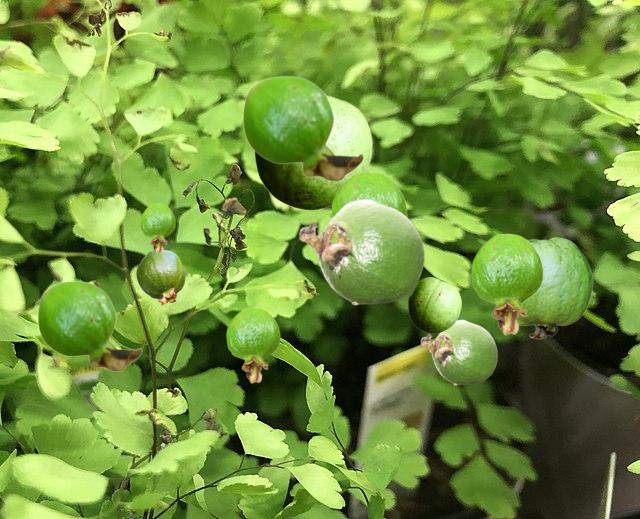guava: (298, 198, 424, 304), (254, 95, 371, 209), (242, 75, 363, 181), (37, 280, 141, 371), (518, 237, 592, 338), (471, 233, 542, 334), (420, 319, 497, 384), (226, 307, 279, 382), (331, 171, 406, 216), (408, 277, 460, 332), (136, 249, 184, 304), (140, 203, 174, 252)
